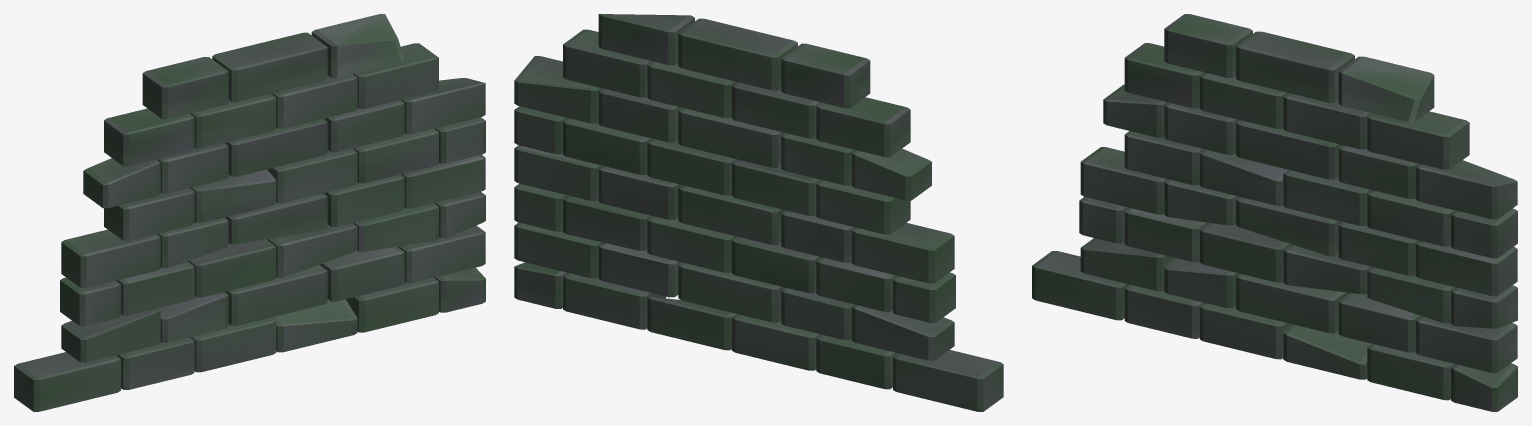
Rendered from wall.fbx.
3 renders of one model, left to right at view 1: azimuth 30°, elevation 25°; view 2: azimuth 150°, elevation 25°; view 3: azimuth 330°, elevation 25°, orthographic. The views are drawn at different scales.
Visible parts, largest first — view 1: Cube.091; view 2: Cube.091; view 3: Cube.091.
Boxes of the visible parts, x1=… form: Cube.091: x1=14, y1=14, x2=485, y2=411; Cube.091: x1=514, y1=14, x2=1003, y2=411; Cube.091: x1=1032, y1=14, x2=1517, y2=411.
Size of the model in its own units: 1.63 by 1.01 by 0.1377.
1 material, 1 textured.
